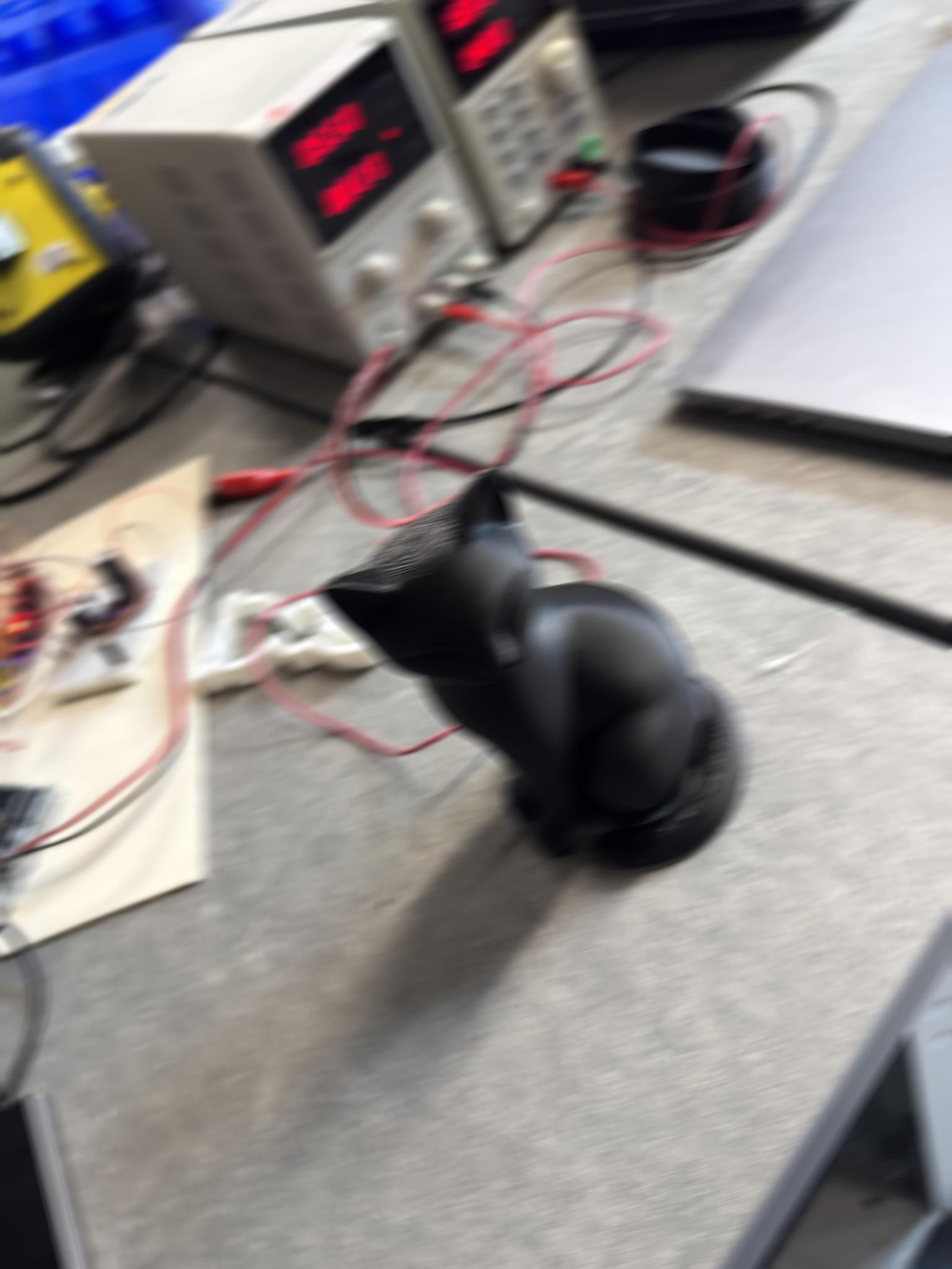cat: (317, 468, 747, 871)
